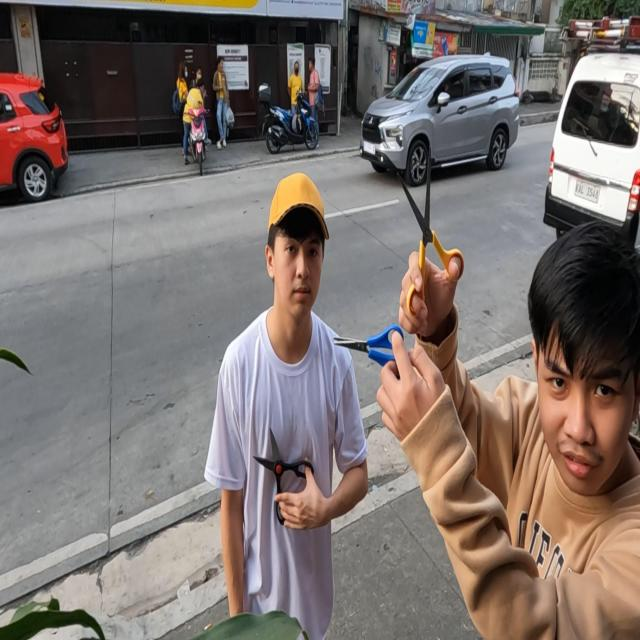scissor: (397, 150, 464, 322), (254, 425, 314, 528), (333, 326, 404, 368)
